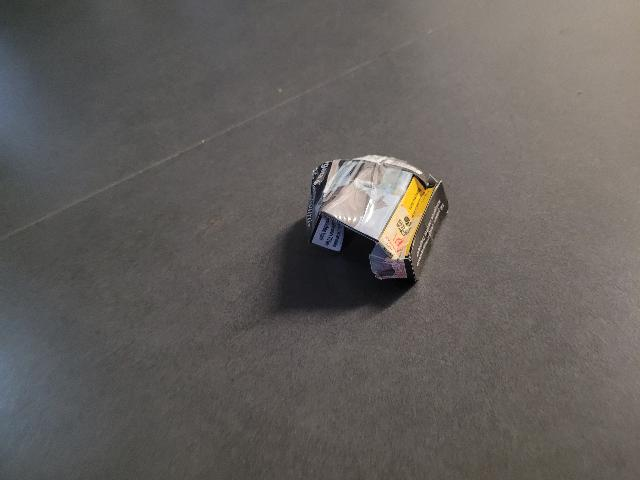Kagit: (308, 137, 459, 292)
